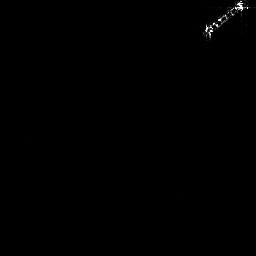ship: (202, 1, 250, 42)
